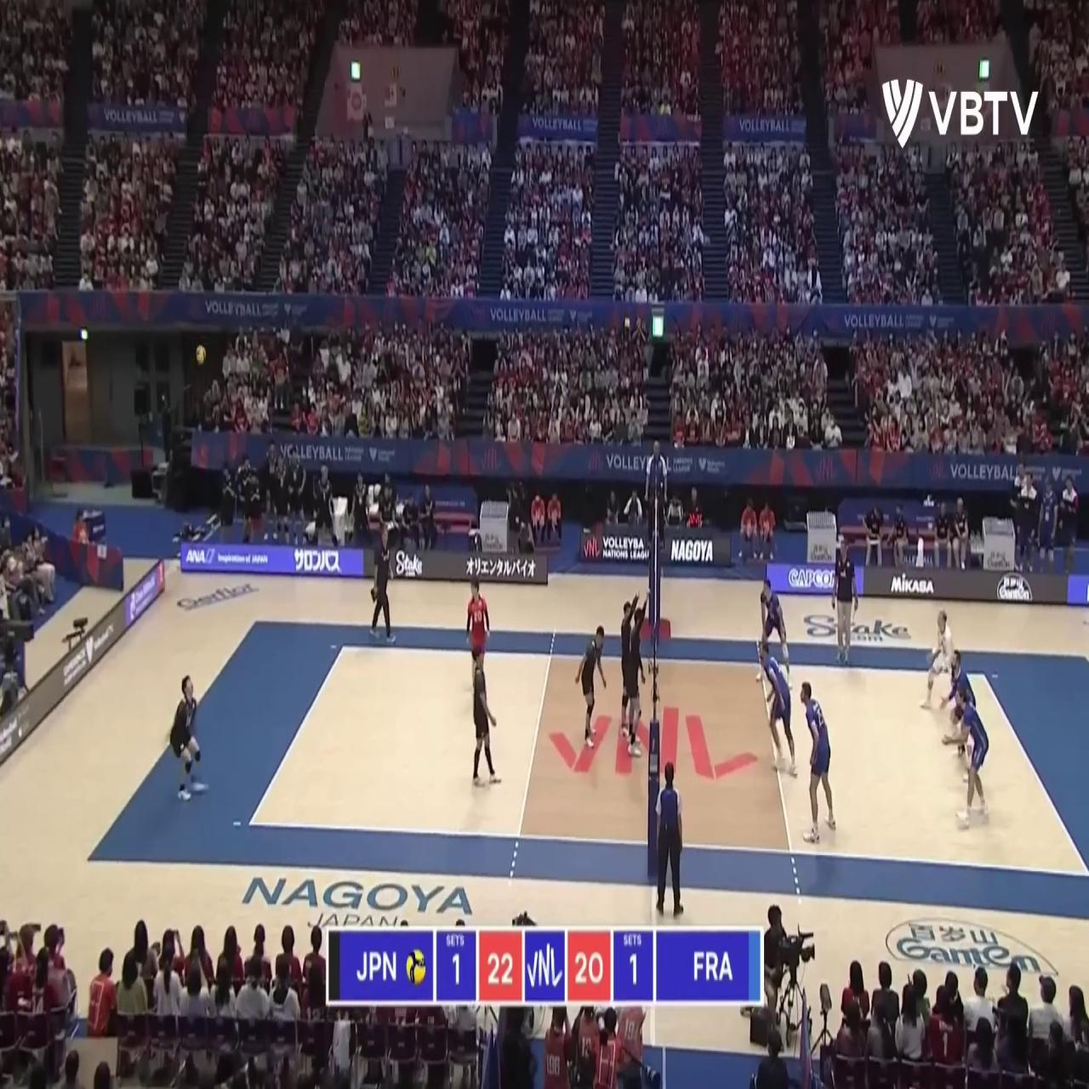ball: (196, 344, 208, 366)
